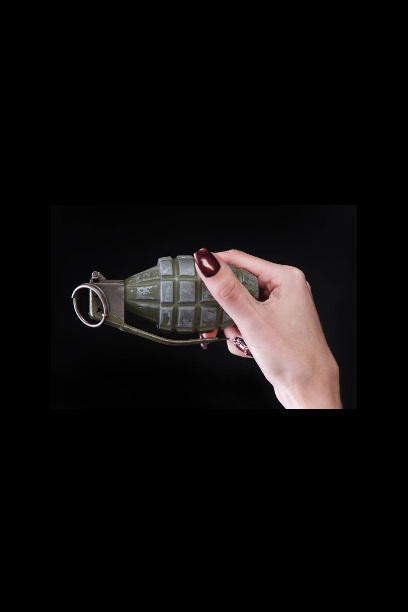e1: (66, 251, 265, 350)
